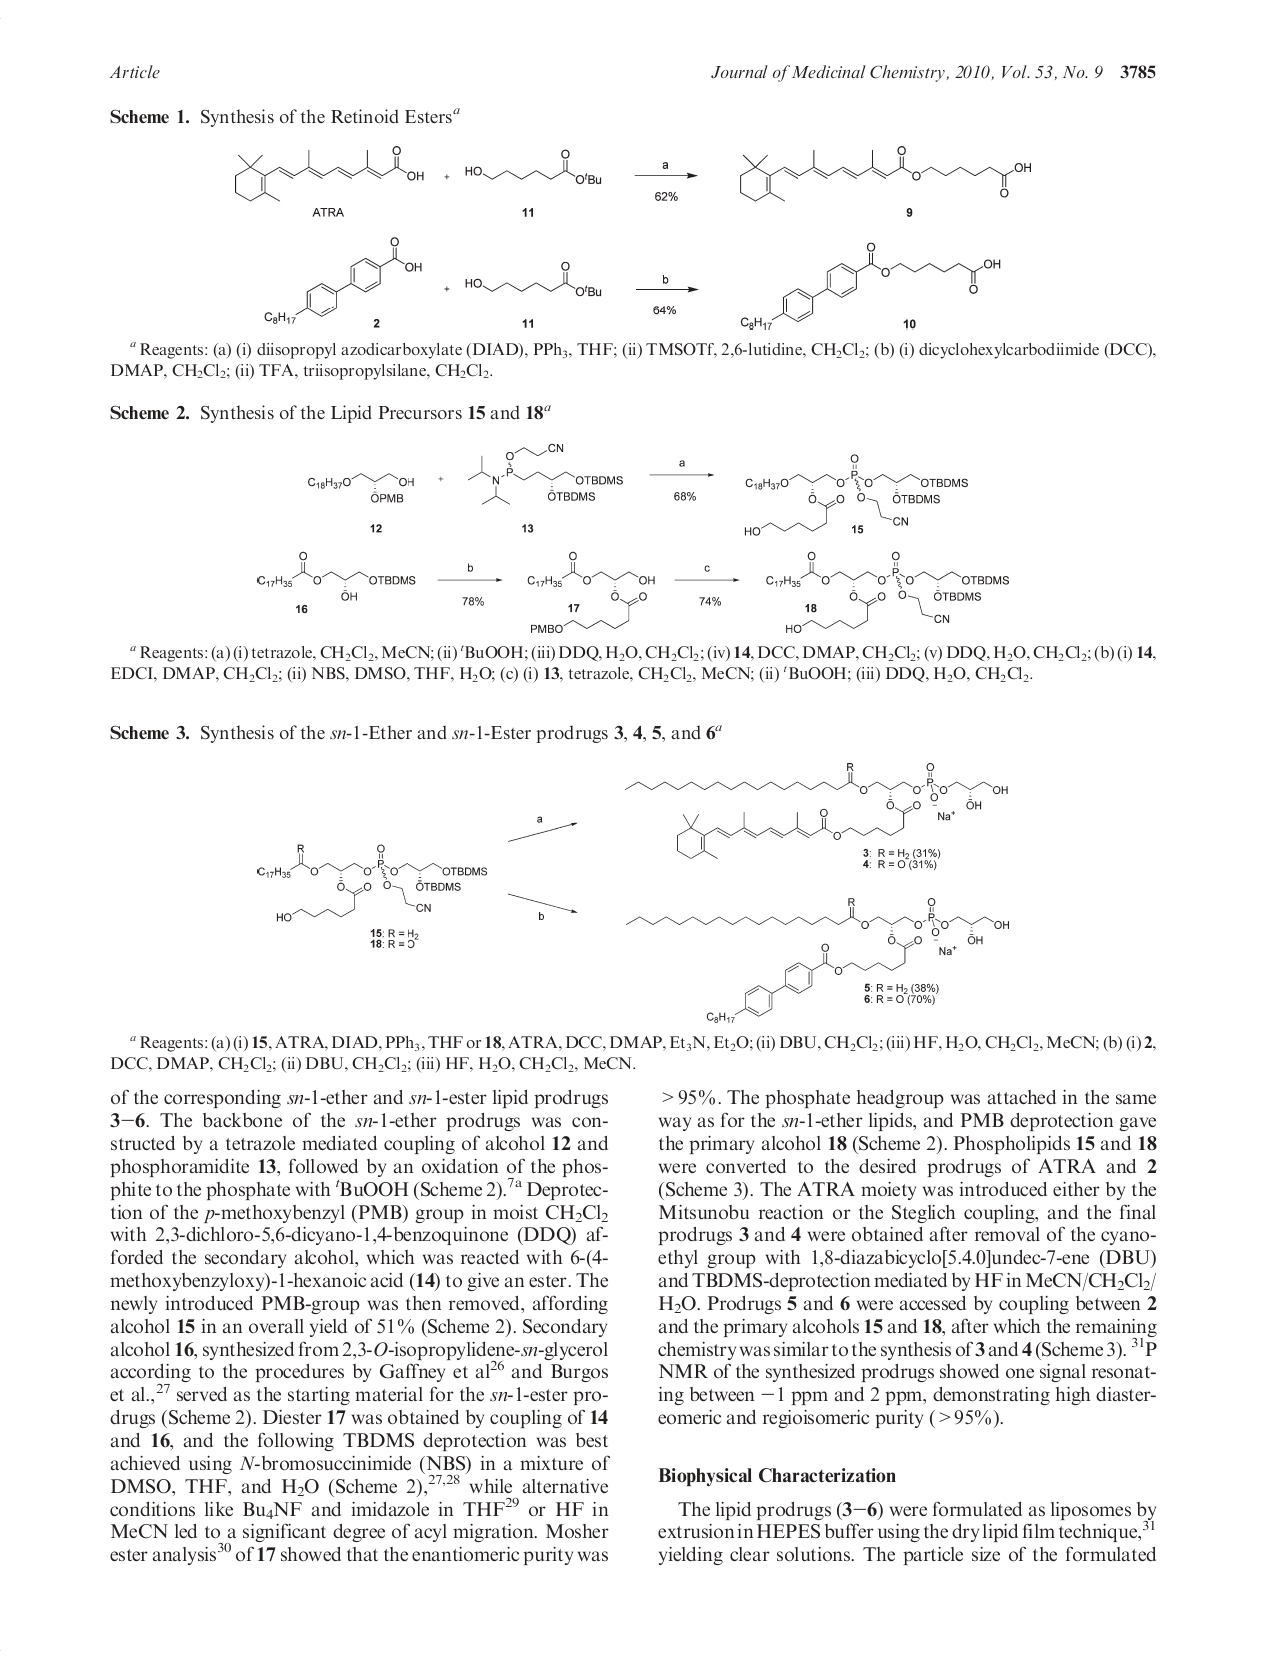exist_molecular: (624, 896, 1017, 1025), (621, 758, 1015, 862), (737, 239, 1005, 331), (759, 547, 1017, 638), (734, 448, 973, 540), (257, 840, 491, 926), (738, 145, 1031, 206), (255, 229, 426, 327), (523, 547, 660, 636), (226, 145, 430, 201), (468, 442, 626, 509), (254, 543, 418, 600), (463, 142, 605, 192), (460, 255, 602, 305), (307, 468, 420, 505)
